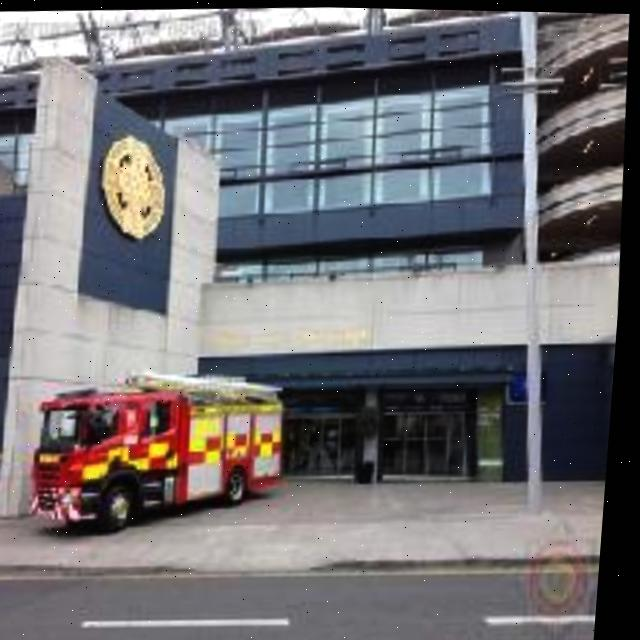emergency: (13, 367, 304, 527)
